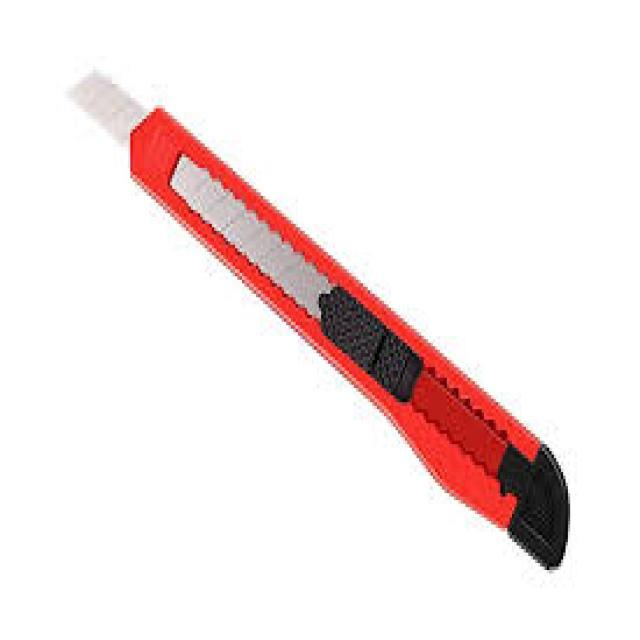cutter: (66, 69, 581, 588)
